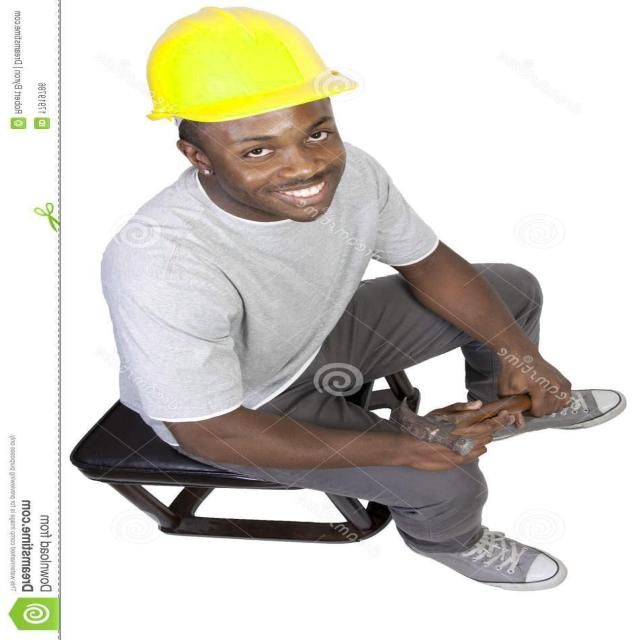face_nomask: (211, 108, 347, 222)
hand_noglove: (401, 397, 493, 480), (489, 349, 579, 424)
head_helmet: (146, 9, 362, 121)
person: (152, 12, 598, 588)
shoes: (395, 506, 577, 594), (464, 380, 629, 451)
